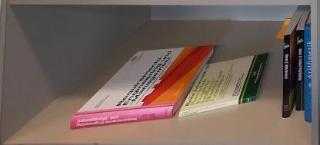book-spine: (69, 103, 175, 130), (177, 95, 257, 118), (282, 34, 292, 119), (303, 25, 311, 123), (296, 30, 304, 111)
